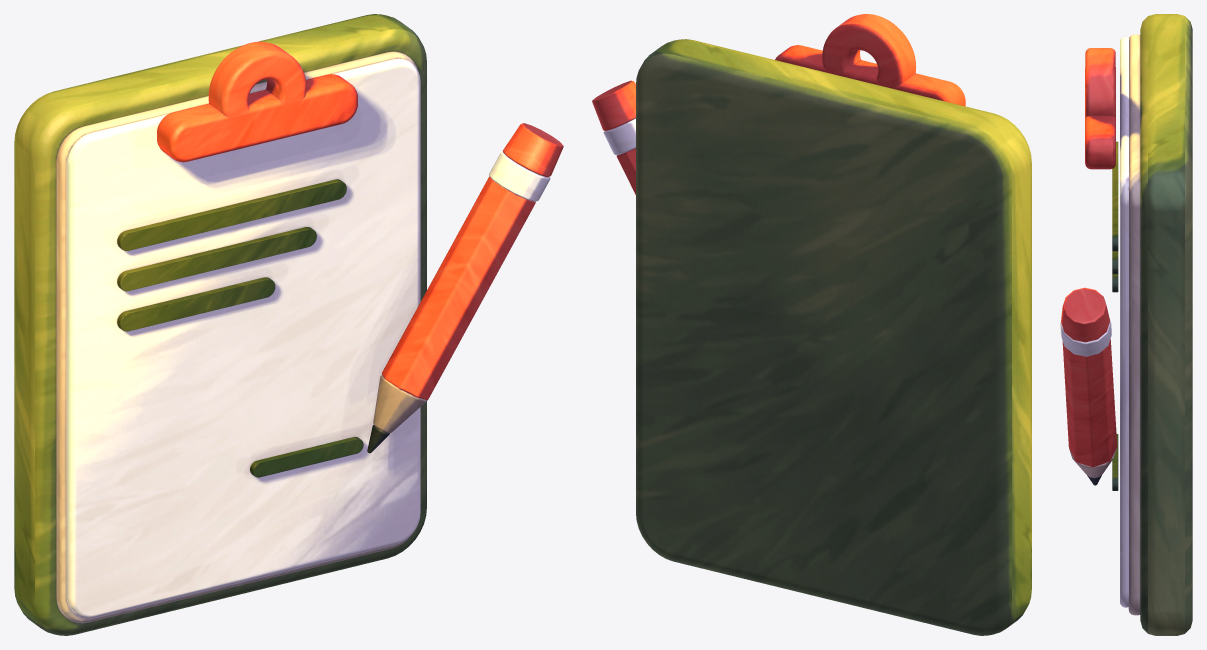
The model's file is editor.glb.
The picture shows the model from 3 angles, left to right: view 1: azimuth 30°, elevation 25°; view 2: azimuth 150°, elevation 25°; view 3: azimuth 270°, elevation 25°; orthographic projection. The views are drawn at different scales.
Visible parts, largest first — view 1: Ivory sheet.001, Olive backing.001, Coral pencil barrel.001, Clip • bar, Paper edge.001, Ruled entry.017, Clip • punched eye, Ruled entry.018, Ruled entry.019, Coral end cap.001, Ruled entry.020, Sharpened cedar.001 (+1 smaller); view 2: Olive backing.001, Clip • punched eye, Clip • bar, Coral end cap.001, Ivory ferrule.001; view 3: Olive backing.001, Paper edge.001, Coral pencil barrel.001, Ivory sheet.001, Coral end cap.001, Clip • punched eye, Clip • bar, Ivory ferrule.001, Ruled entry.017, Sharpened cedar.001, Ruled entry.020.
Part boxes in pixels (x1,y1,x2,y2): Ivory sheet.001: (66, 58, 420, 618); Olive backing.001: (14, 14, 426, 635); Coral pencil barrel.001: (381, 176, 535, 399); Clip • bar: (157, 74, 357, 162); Paper edge.001: (56, 51, 417, 623); Ruled entry.017: (117, 179, 346, 250); Clip • punched eye: (208, 41, 306, 117); Ruled entry.018: (117, 227, 316, 291); Ruled entry.019: (117, 277, 275, 331); Coral end cap.001: (503, 123, 563, 177); Ruled entry.020: (250, 436, 363, 477); Sharpened cedar.001: (373, 375, 427, 433); Olive backing.001: (636, 39, 1031, 635); Clip • punched eye: (822, 14, 916, 86); Clip • bar: (775, 45, 965, 106); Coral end cap.001: (592, 80, 635, 130); Ivory ferrule.001: (603, 118, 635, 155); Olive backing.001: (1140, 14, 1192, 635); Paper edge.001: (1128, 34, 1140, 615); Coral pencil barrel.001: (1062, 339, 1117, 467); Ivory sheet.001: (1120, 37, 1129, 607); Coral end cap.001: (1061, 287, 1109, 342); Clip • punched eye: (1085, 48, 1115, 116); Clip • bar: (1085, 67, 1115, 169); Ivory ferrule.001: (1060, 320, 1111, 356); Ruled entry.017: (1112, 141, 1118, 251); Sharpened cedar.001: (1069, 448, 1116, 478); Ruled entry.020: (1112, 434, 1118, 490).
Size of the model in its own units: 2.14 by 2.37 by 0.5564.
Materials: 7 (7 with a texture image).
